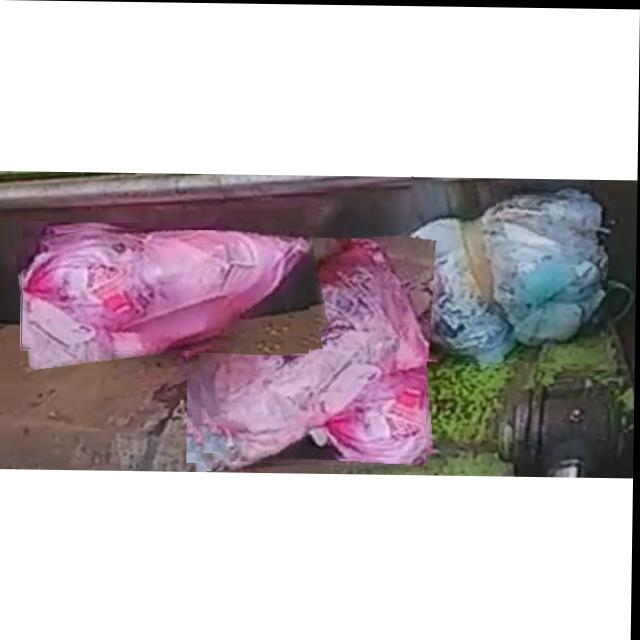other_trashbag: (197, 237, 427, 463), (22, 230, 310, 353), (407, 195, 608, 361)
